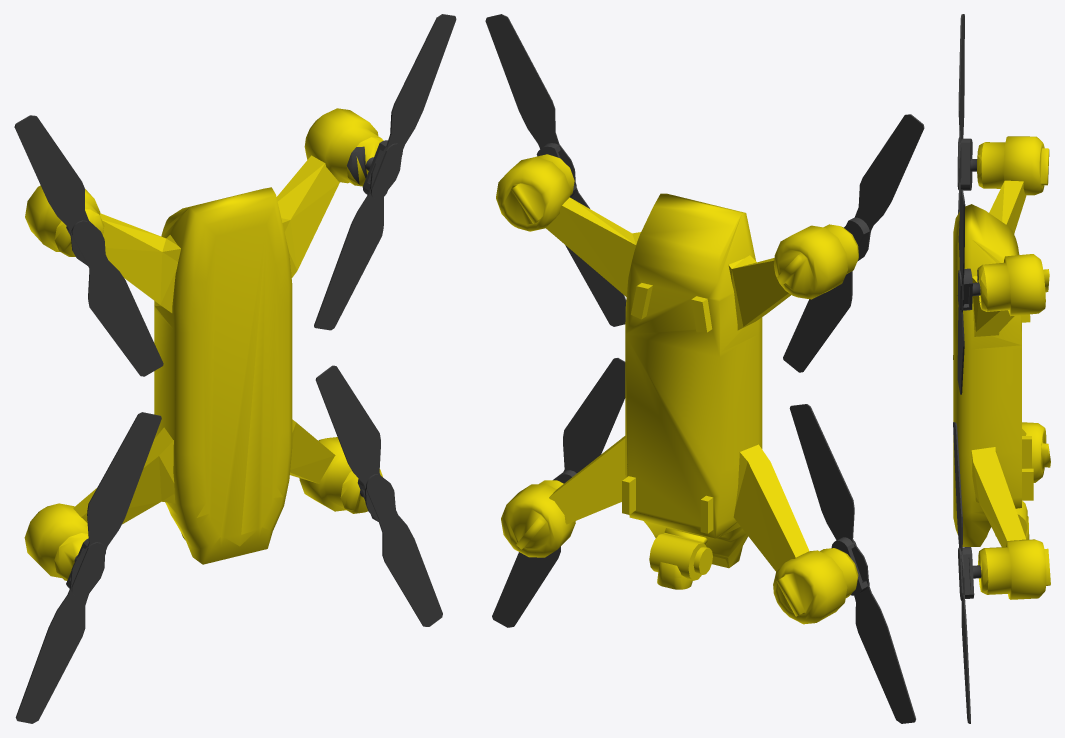
The model's file is drone.dae.
The picture shows the model from 3 angles, left to right: view 1: azimuth 30°, elevation 25°; view 2: azimuth 150°, elevation 25°; view 3: azimuth 270°, elevation 25°; orthographic projection. The views are drawn at different scales.
Visible parts, largest first — view 1: Drone; view 2: Drone; view 3: Drone.
Boxes of the visible parts, x1,y1,x2,y2 form: Drone: [14, 14, 456, 723]; Drone: [485, 14, 924, 723]; Drone: [953, 14, 1050, 723].
Size of the model in its own units: 11920 by 15806 by 2614.
